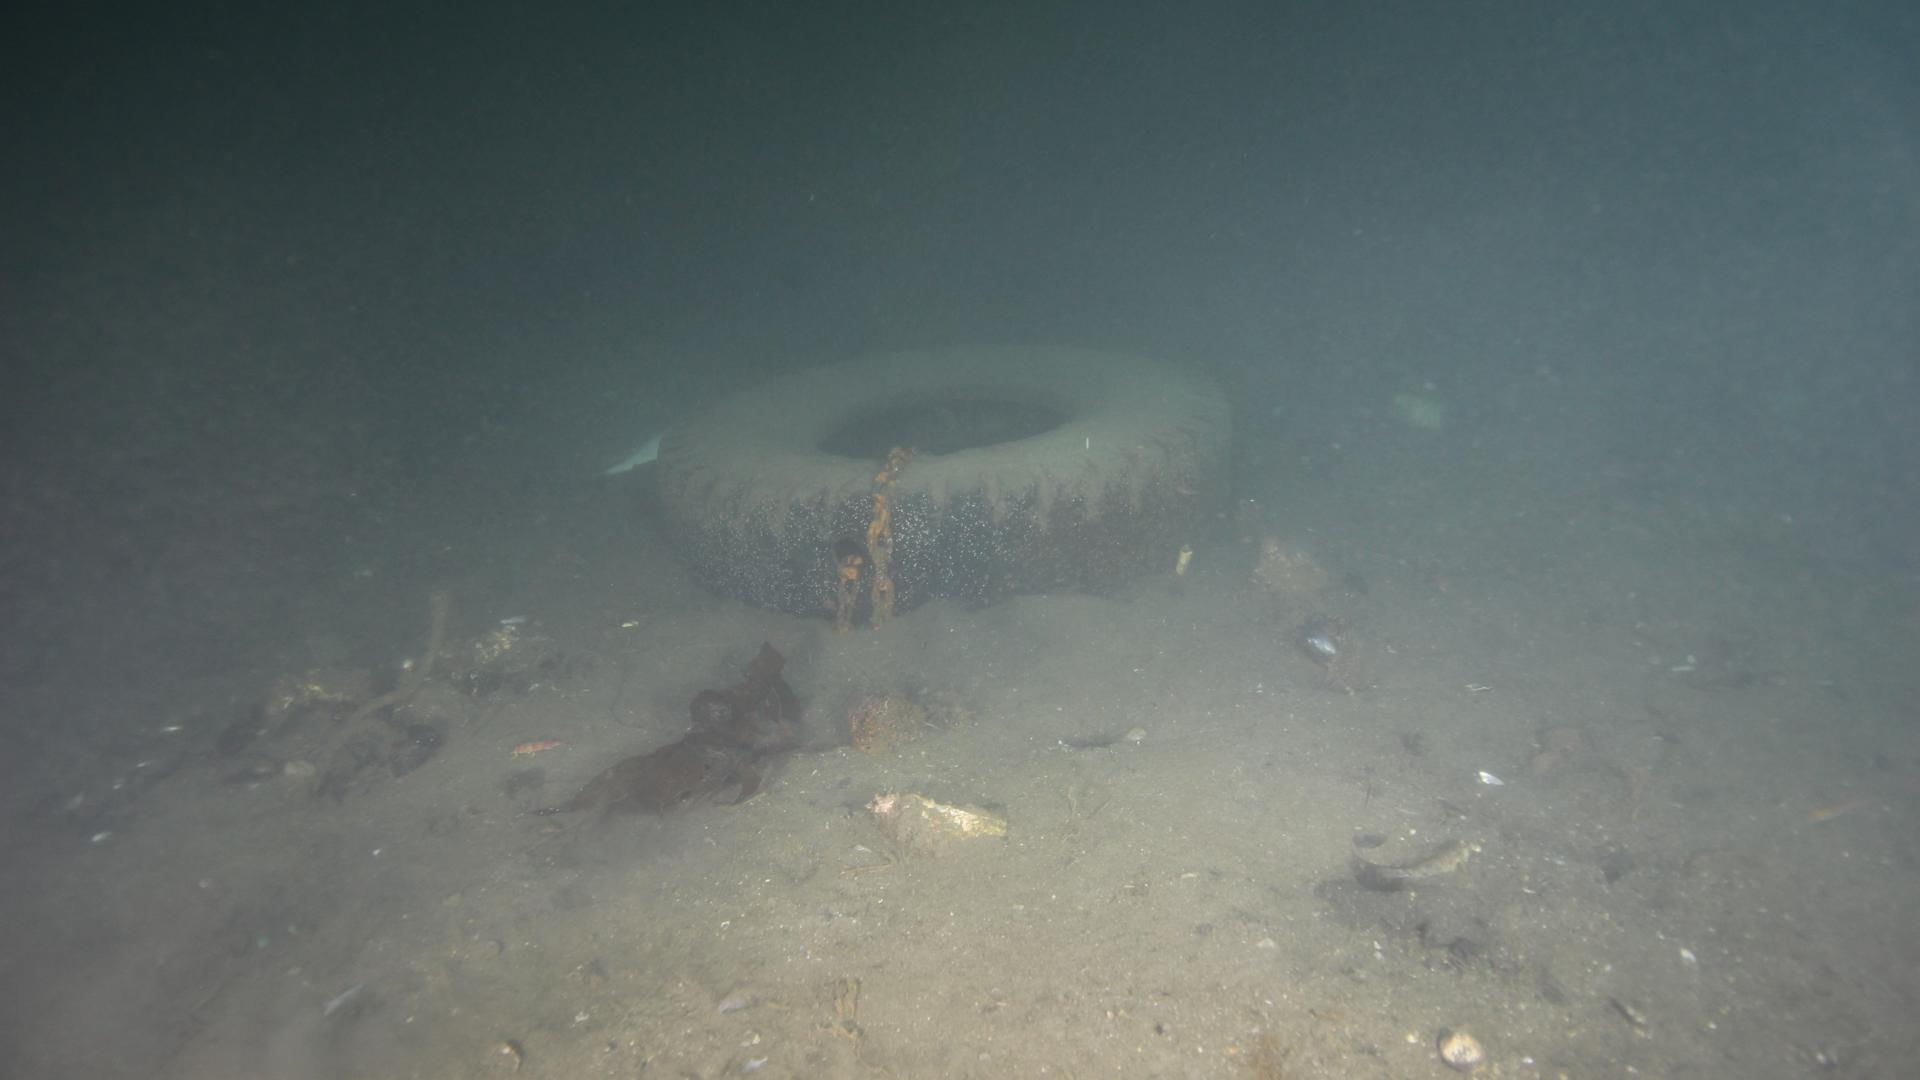tire: (645, 334, 1245, 618)
